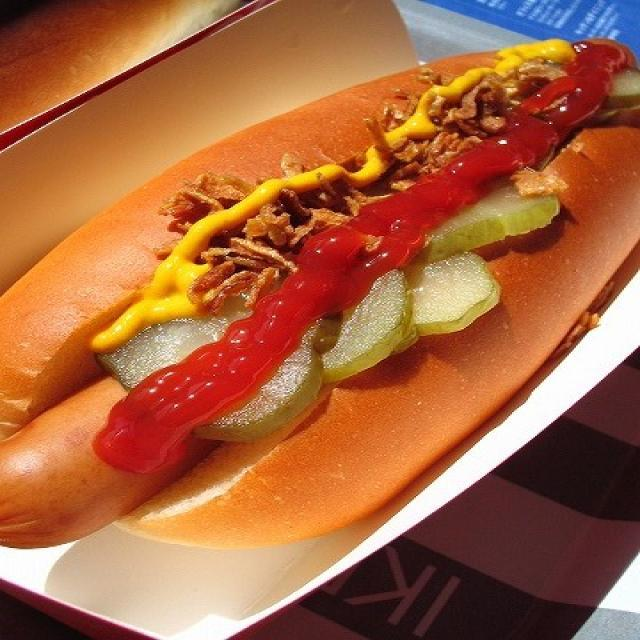Hot Dog: (0, 28, 635, 556)
